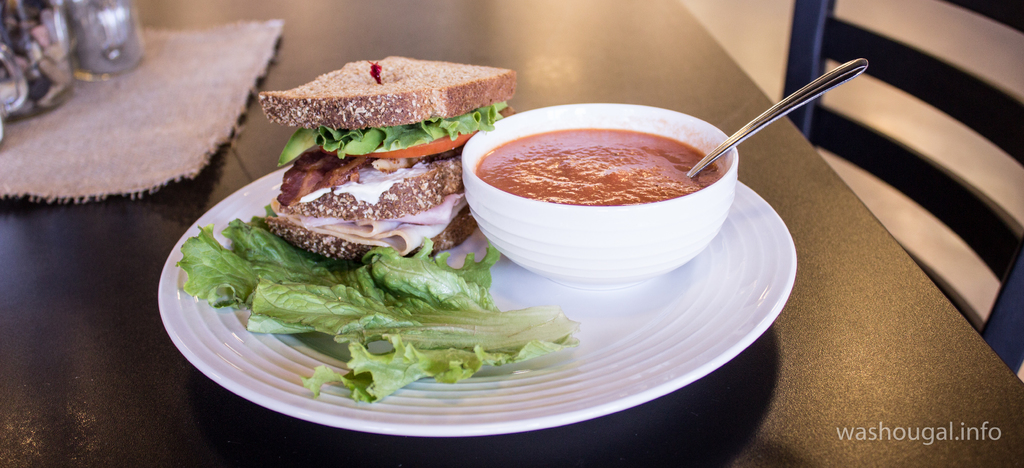sandwich: (254, 52, 523, 273)
